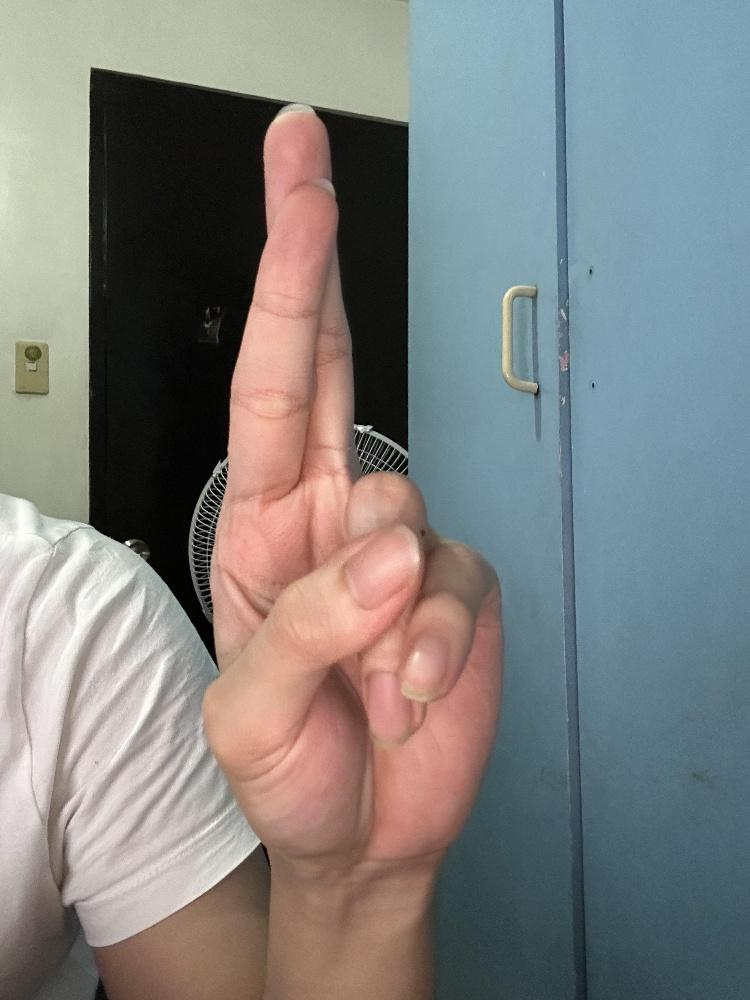r: (200, 96, 506, 878)
